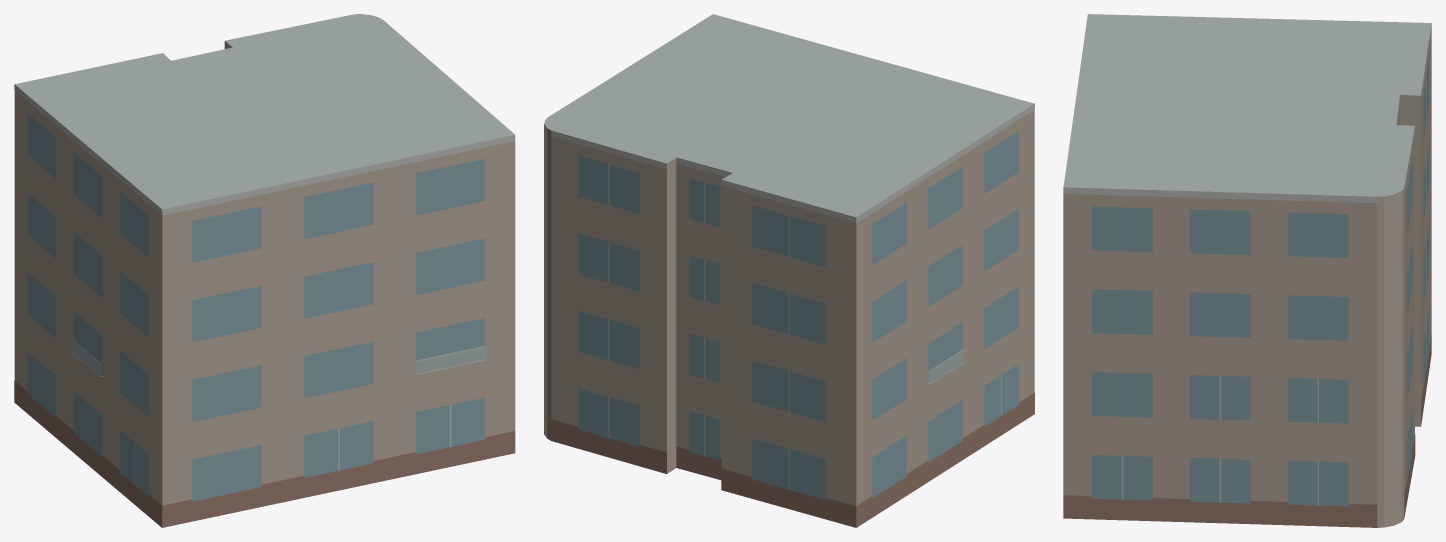
Rendered from survey-upis-32827299.glb.
3 renders of one model, left to right at view 1: azimuth 30°, elevation 25°; view 2: azimuth 150°, elevation 25°; view 3: azimuth 270°, elevation 25°, orthographic. The views are drawn at different scales.
Parts seen in each view (by area): view 1: survey-upis-32827299.tmp; view 2: survey-upis-32827299.tmp; view 3: survey-upis-32827299.tmp.
Part boxes in pixels (left/top/right/bottom): survey-upis-32827299.tmp: left=14, top=14, right=515, bottom=527; survey-upis-32827299.tmp: left=544, top=14, right=1034, bottom=527; survey-upis-32827299.tmp: left=1063, top=14, right=1431, bottom=527.
Bounding box in the file's own units: 14.69 × 12.4 × 12.5.
